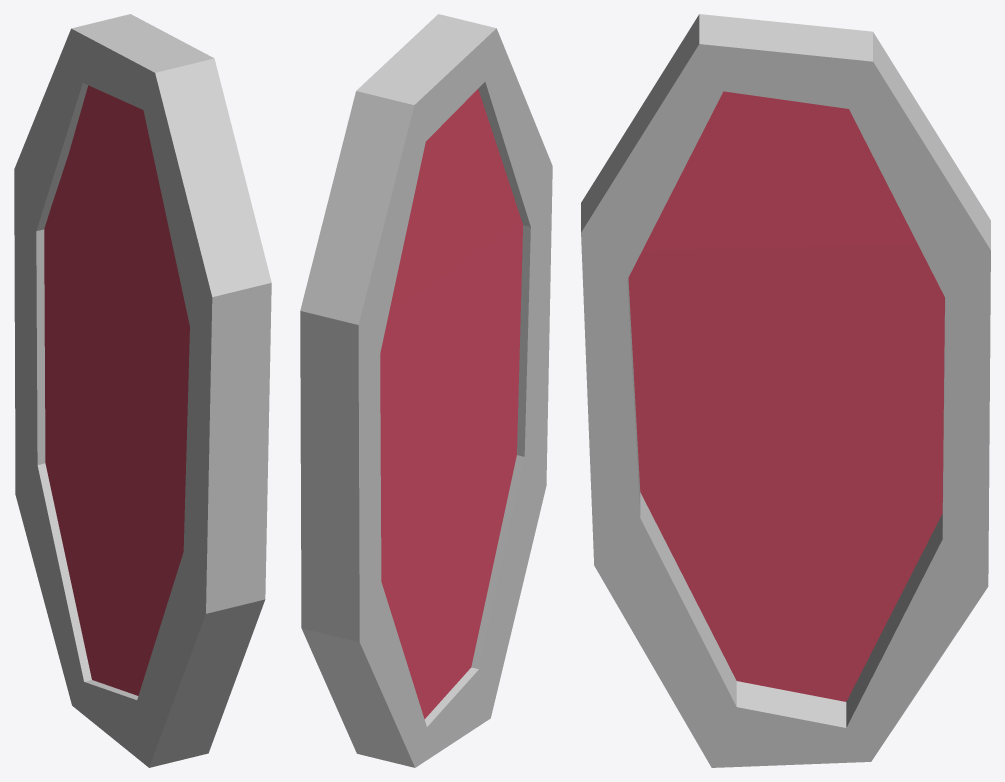
File: MS_Frame6.fbx
3 renders of one model, left to right at view 1: azimuth 30°, elevation 25°; view 2: azimuth 150°, elevation 25°; view 3: azimuth 270°, elevation 25°, orthographic. The views are drawn at different scales.
Visible parts, largest first — view 1: Plane.007; view 2: Plane.007; view 3: Plane.007.
Boxes of the visible parts, x1,y1,x2,y2 form: Plane.007: (14,14,271,767); Plane.007: (300,14,552,767); Plane.007: (581,14,990,767).
Bounding box in the file's own units: 3.62 × 40.75 × 20.92.
